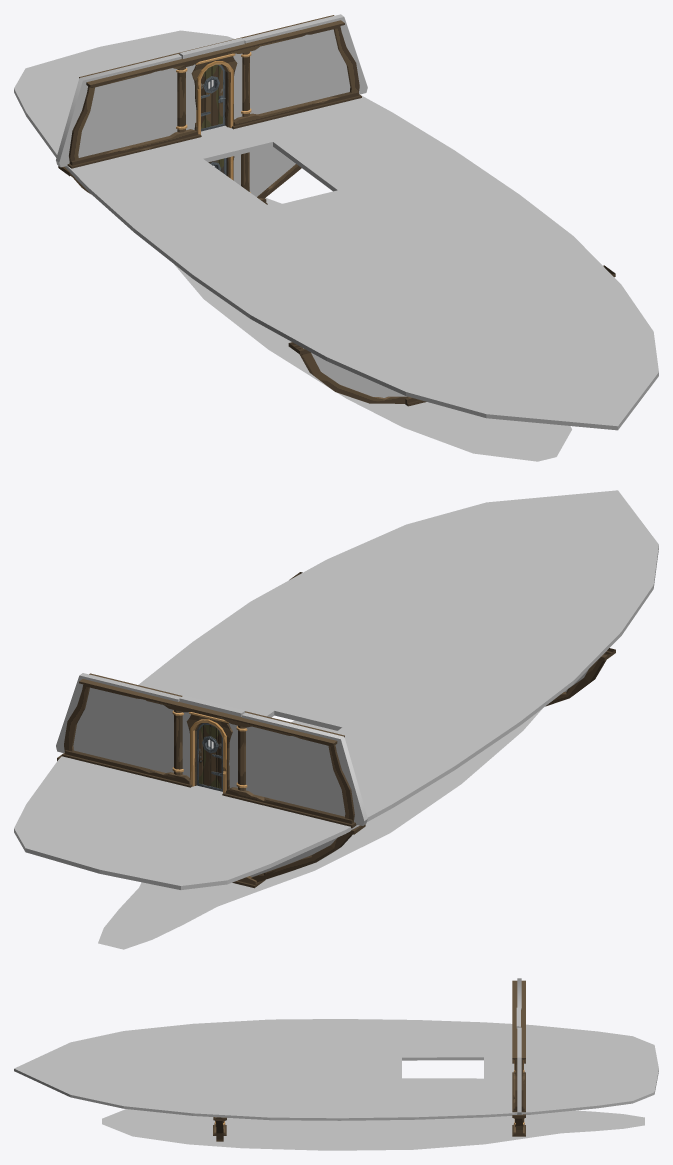
Rendered from SM_Veh_Ship_L_Floor_01.fbx.
3 views of the same model, one above another, from view 1: azimuth 30°, elevation 25°; view 2: azimuth 150°, elevation 25°; view 3: azimuth 270°, elevation 25° (orthographic). The views are drawn at different scales.
Visible parts, largest first — view 1: SM_Veh_Ship_L_Floor_01; view 2: SM_Veh_Ship_L_Floor_01; view 3: SM_Veh_Ship_L_Floor_01.
Part boxes in pixels (bbox=[...]): SM_Veh_Ship_L_Floor_01: bbox=[14, 14, 658, 461]; SM_Veh_Ship_L_Floor_01: bbox=[14, 490, 658, 949]; SM_Veh_Ship_L_Floor_01: bbox=[14, 978, 658, 1150].
Bounding box in the file's own units: 1209 × 600 × 3317.
